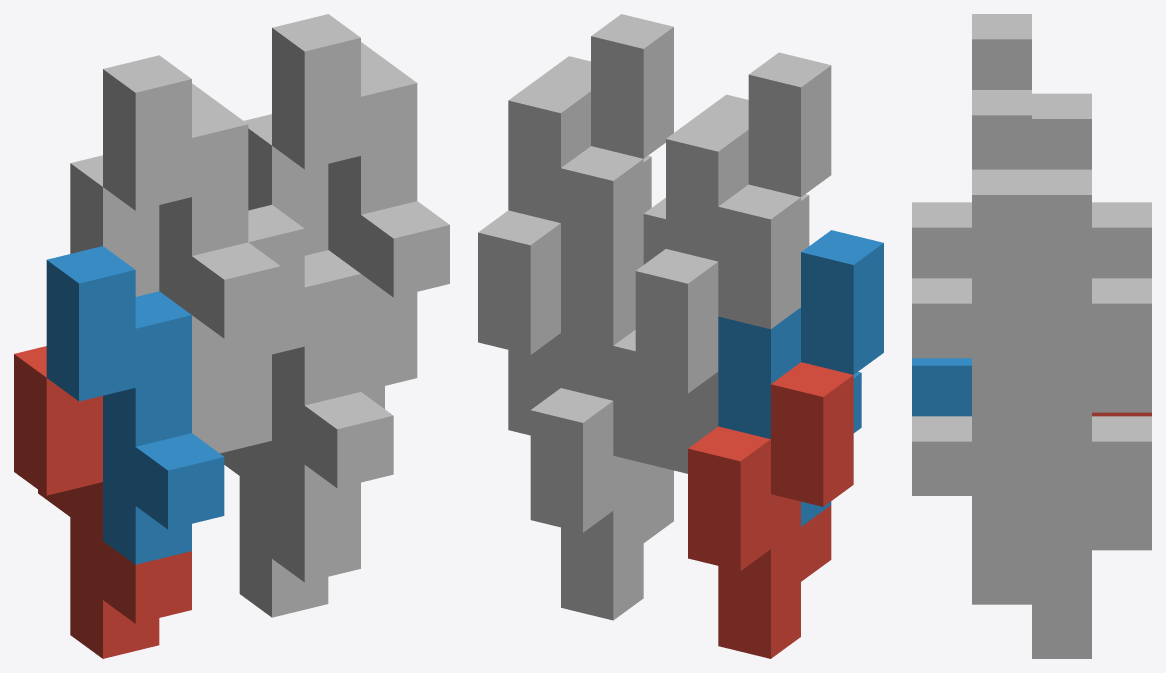
Rendered from tiling.obj.
The picture shows the model from 3 angles, left to right: view 1: azimuth 30°, elevation 25°; view 2: azimuth 150°, elevation 25°; view 3: azimuth 270°, elevation 25°; orthographic projection. The views are drawn at different scales.
Visible parts, largest first — view 1: copy_1_domain_2, copy_1_domain_8, copy_1_domain_4, copy_1_domain_6, copy_1_domain_1, copy_1_domain_5, copy_1_domain_3, copy_1_domain_7; view 2: copy_1_domain_1, copy_1_domain_5, copy_1_domain_3, copy_1_domain_7, copy_1_domain_4, copy_1_domain_8, copy_1_domain_2, copy_1_domain_6; view 3: copy_1_domain_8, copy_1_domain_7, copy_1_domain_5, copy_1_domain_4, copy_1_domain_6, copy_1_domain_3, copy_1_domain_2.
Boxes of the visible parts, x1,y1,x2,y2 form: copy_1_domain_2: [46, 246, 224, 564]; copy_1_domain_8: [272, 14, 449, 332]; copy_1_domain_4: [103, 55, 280, 373]; copy_1_domain_6: [248, 205, 393, 523]; copy_1_domain_1: [14, 346, 191, 658]; copy_1_domain_5: [215, 354, 360, 617]; copy_1_domain_3: [70, 155, 248, 449]; copy_1_domain_7: [244, 114, 417, 408]; copy_1_domain_1: [688, 362, 853, 658]; copy_1_domain_5: [530, 330, 673, 620]; copy_1_domain_3: [635, 184, 800, 473]; copy_1_domain_7: [478, 146, 643, 435]; copy_1_domain_4: [666, 52, 831, 261]; copy_1_domain_8: [508, 14, 673, 222]; copy_1_domain_2: [718, 230, 883, 526]; copy_1_domain_6: [561, 197, 669, 487]; copy_1_domain_8: [912, 90, 1091, 412]; copy_1_domain_7: [972, 278, 1151, 521]; copy_1_domain_5: [972, 416, 1151, 658]; copy_1_domain_4: [912, 14, 1091, 278]; copy_1_domain_6: [912, 416, 1031, 550]; copy_1_domain_3: [1092, 202, 1151, 278]; copy_1_domain_2: [912, 358, 971, 416].
Size of the model in its own units: 6 by 10 by 4.
